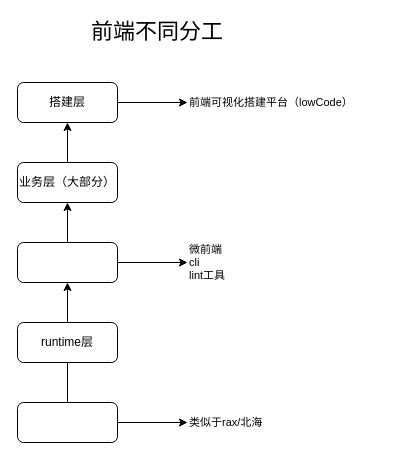
Image size: 415x460. Some labels were removed from this diagram. Each missing label, with the centre of its shape:
"工具层" belongs at point 67,262.
"引擎层" belongs at point 67,422.
